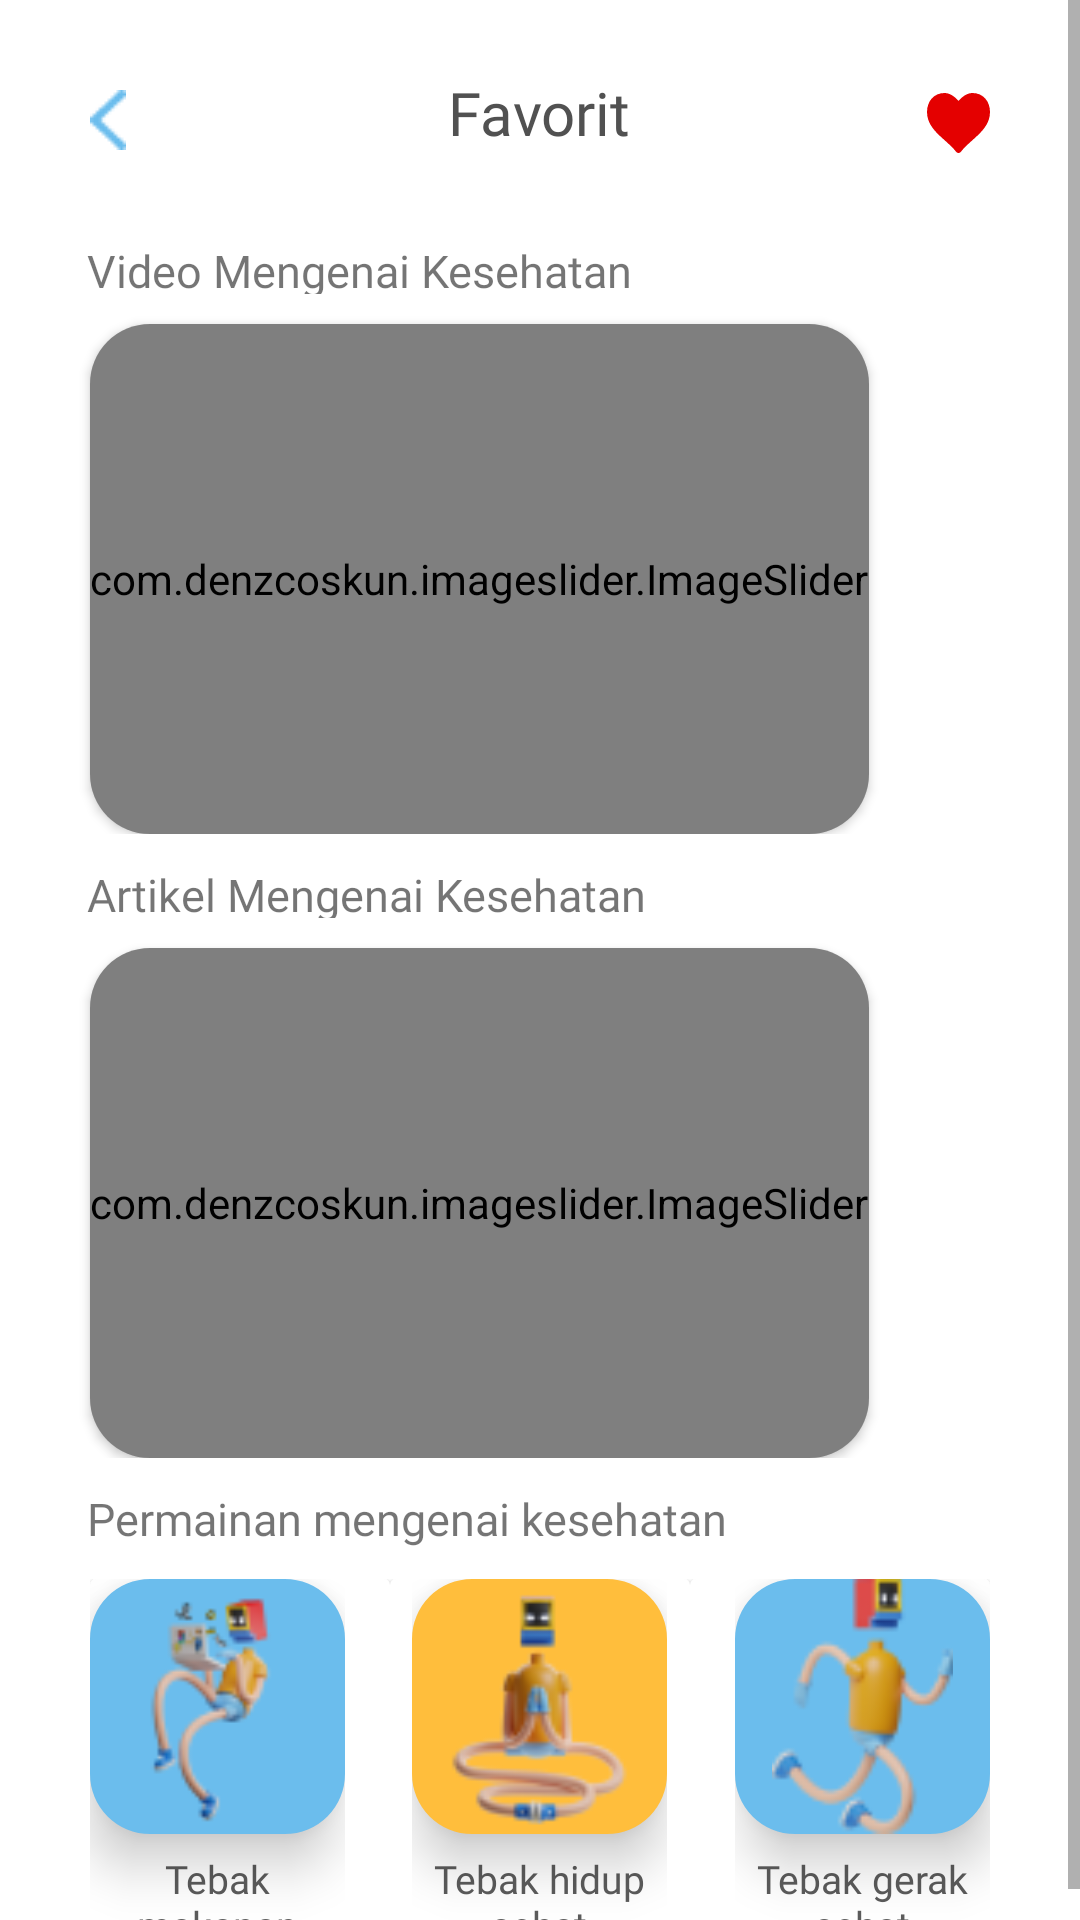

Point at icon controls on the screen. Image size 1080px x 1920px, points as (x=x, y=y).
love: (x=958, y=123)
